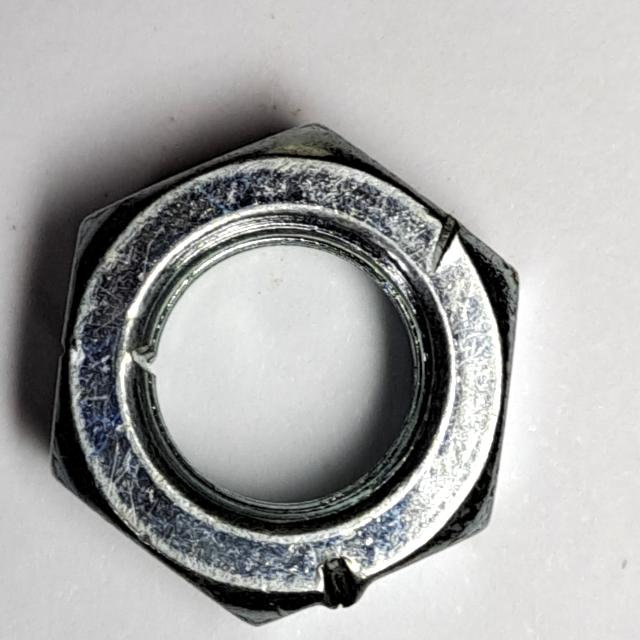Scratches: (42, 107, 528, 639)
